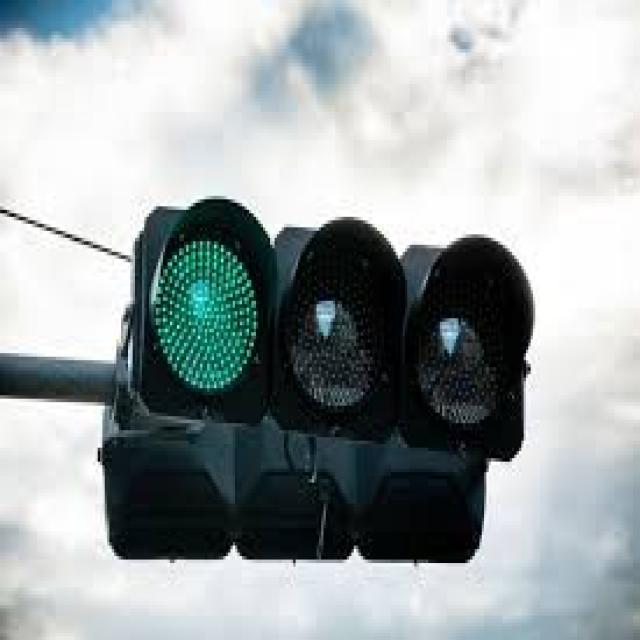green: (140, 217, 252, 389)
